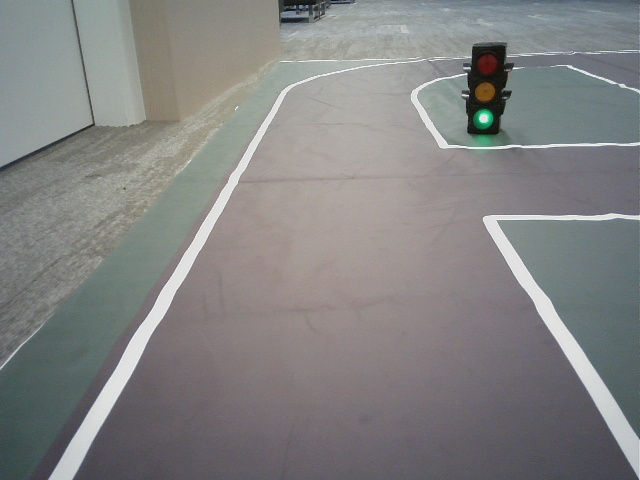green: (470, 47, 502, 131)
